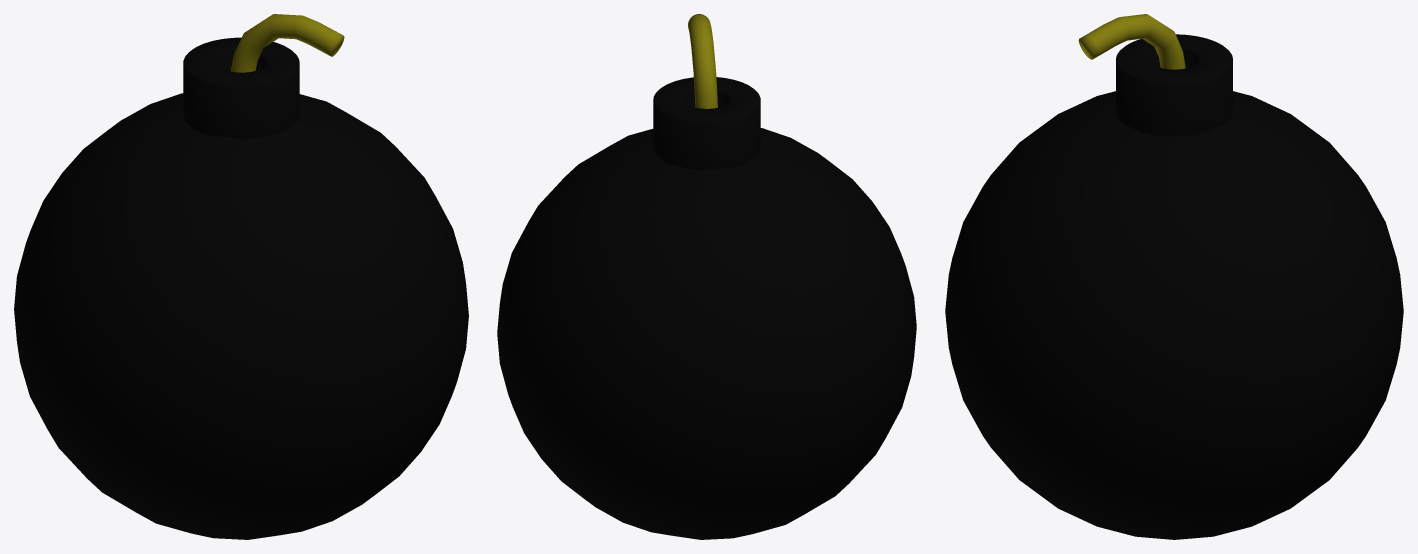
The model's file is BombTest.fbx.
The picture shows the model from 3 angles, left to right: view 1: azimuth 30°, elevation 25°; view 2: azimuth 150°, elevation 25°; view 3: azimuth 270°, elevation 25°; orthographic projection. The views are drawn at different scales.
Visible parts, largest first — view 1: Bomb, Bomb.001, Bomb.002; view 2: Bomb, Bomb.001, Bomb.002; view 3: Bomb, Bomb.001, Bomb.002.
Boxes of the visible parts, x1,y1,x2,y2 form: Bomb: (14,93,468,539); Bomb.001: (183,37,299,139); Bomb.002: (231,14,344,72); Bomb: (497,128,916,539); Bomb.001: (653,77,760,170); Bomb.002: (688,14,717,108); Bomb: (945,91,1403,539); Bomb.001: (1116,34,1232,136); Bomb.002: (1078,14,1185,69).
Size of the model in its own units: 200 by 249 by 200.
